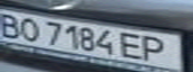1: (60, 21, 81, 50)
4: (97, 27, 118, 56)
7: (39, 19, 63, 46)
8: (78, 25, 96, 52)
B: (0, 10, 24, 38)
E: (115, 30, 151, 61)
O: (15, 15, 45, 43)
P: (136, 34, 175, 63)
